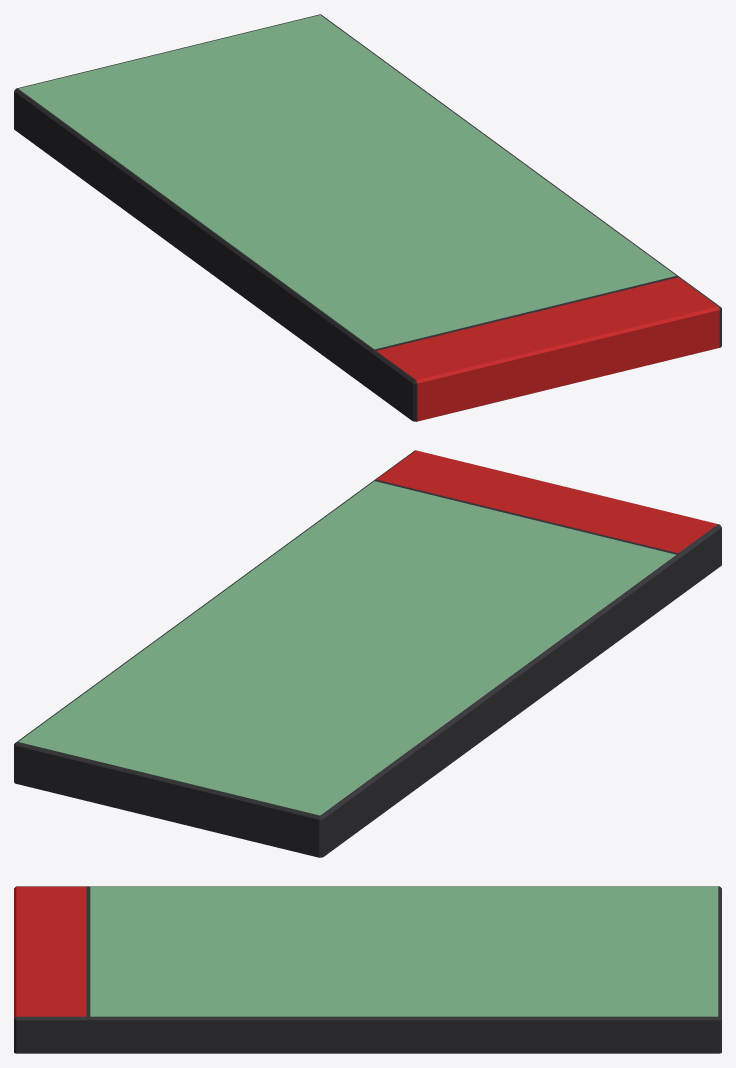
File: red_sector.glb
3 views of the same model, one above another, from view 1: azimuth 30°, elevation 25°; view 2: azimuth 150°, elevation 25°; view 3: azimuth 270°, elevation 25° (orthographic). The views are drawn at different scales.
Parts seen in each view (by area): view 1: red_sector.002; view 2: red_sector.002; view 3: red_sector.002.
Part boxes in pixels (bbox=[...]): red_sector.002: bbox=[14, 14, 721, 421]; red_sector.002: bbox=[14, 450, 721, 857]; red_sector.002: bbox=[14, 886, 721, 1053].
Bounding box in the file's own units: 8 × 1 × 18.
Materials: 1 (1 with a texture image).
